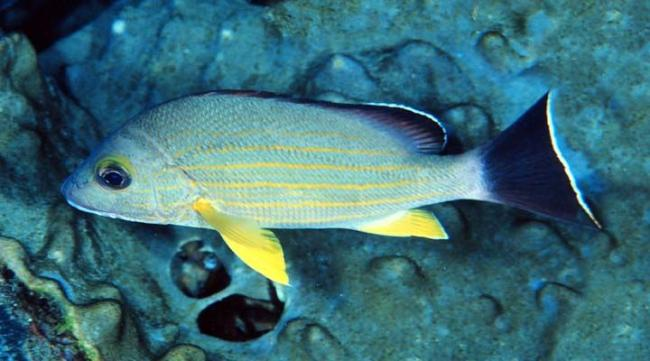fish: (60, 89, 602, 288)
